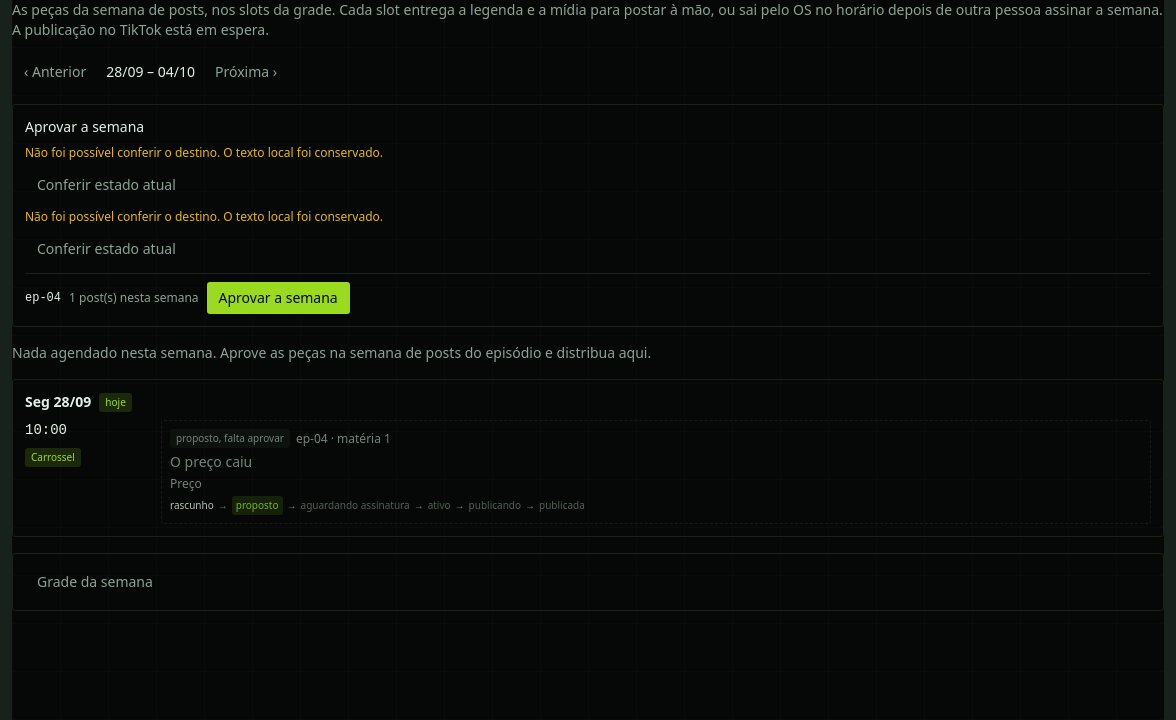
Test case: MD8: "Aprovar a semana" na aba Semana › com impedimento da semana (página de links fora do ar), o botão não monta nada
Click the button "Aprovar a semana" at x=278, y=298, box [206,282,350,314]
(page scrolled)
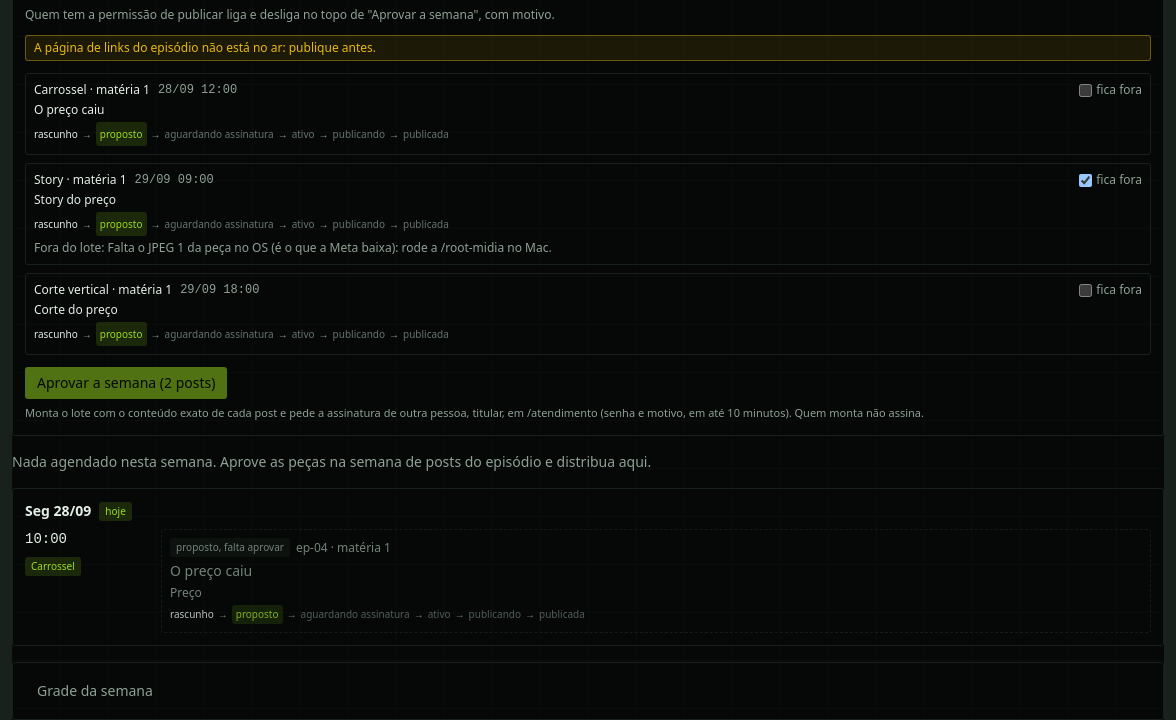
Check: the element named "Aprovar a semana de ep-04" shows "A página de links do episódio não está no ar", box [34,39,376,56]
Check: the button "Aprovar a semana (2 posts)" is disabled, box [25,367,227,399]
